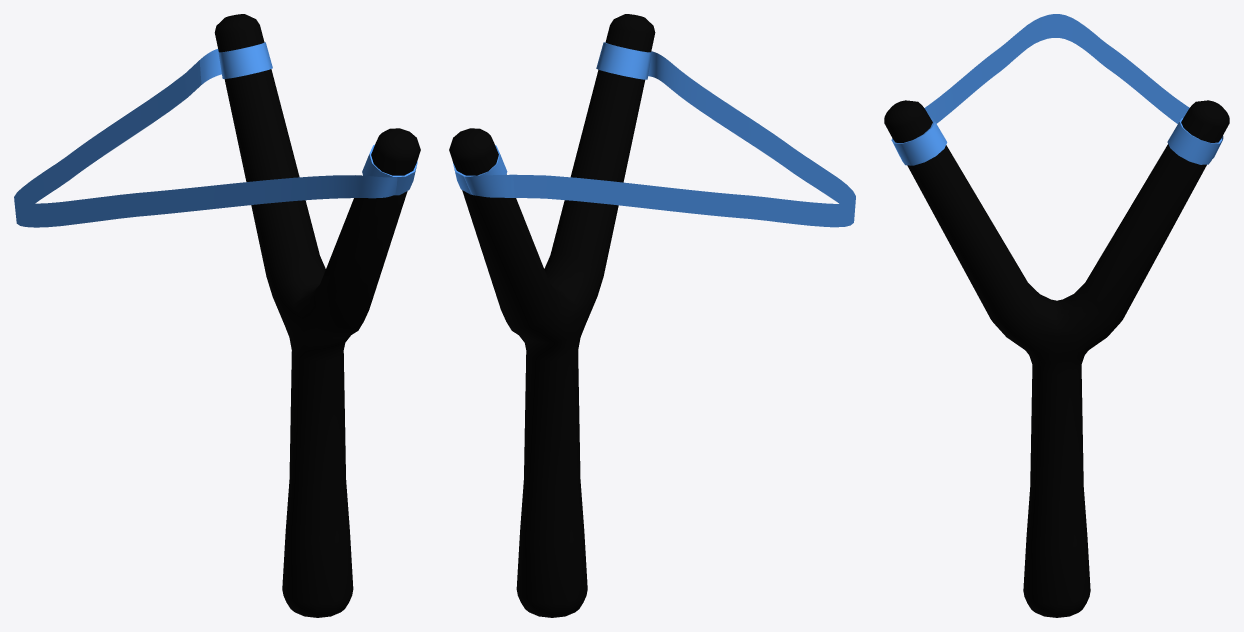
Rendered from Slingshot_3.fbx.
3 views of the same model, side by side, from view 1: azimuth 30°, elevation 25°; view 2: azimuth 150°, elevation 25°; view 3: azimuth 270°, elevation 25° (orthographic). The views are drawn at different scales.
Parts seen in each view (by area): view 1: Slingshot_BlackRed.002; view 2: Slingshot_BlackRed.002; view 3: Slingshot_BlackRed.002.
Boxes of the visible parts, x1,y1,x2,y2 form: Slingshot_BlackRed.002: (14,14,420,617); Slingshot_BlackRed.002: (449,14,855,617); Slingshot_BlackRed.002: (884,14,1229,617).
Bounding box in the file's own units: 1075 × 1667 × 1022.
